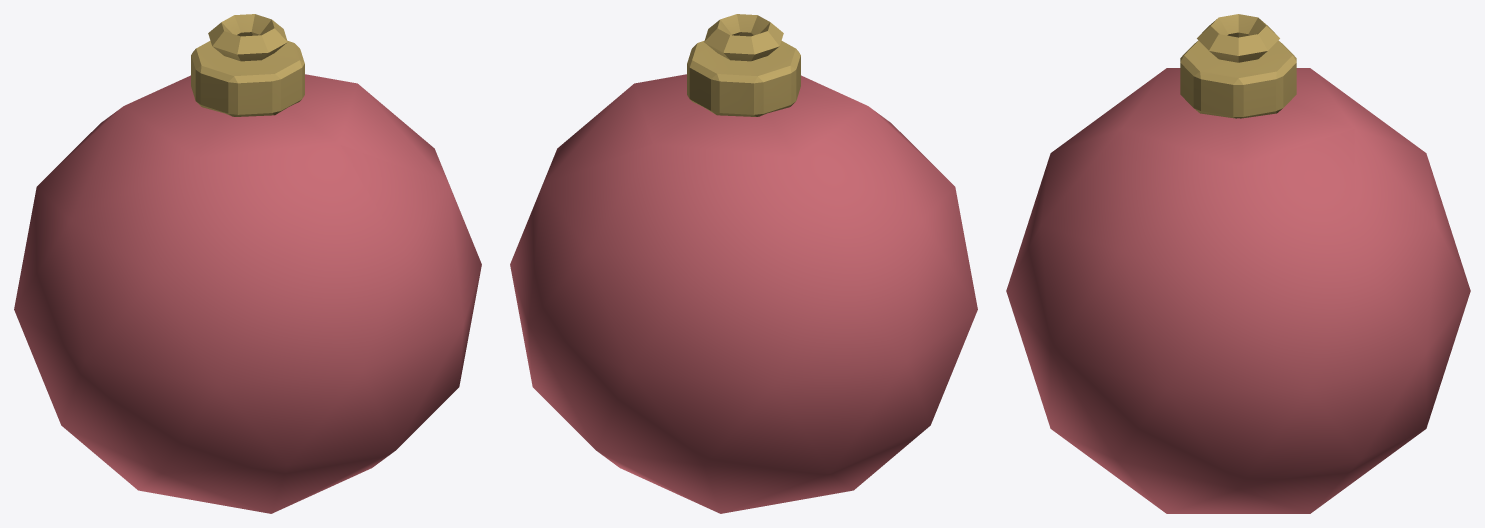
The model's file is resident_bauble_red.glb.
The picture shows the model from 3 angles, left to right: view 1: azimuth 30°, elevation 25°; view 2: azimuth 150°, elevation 25°; view 3: azimuth 270°, elevation 25°; orthographic projection.
Bounding box in the file's own units: 1 × 1.13 × 1.
